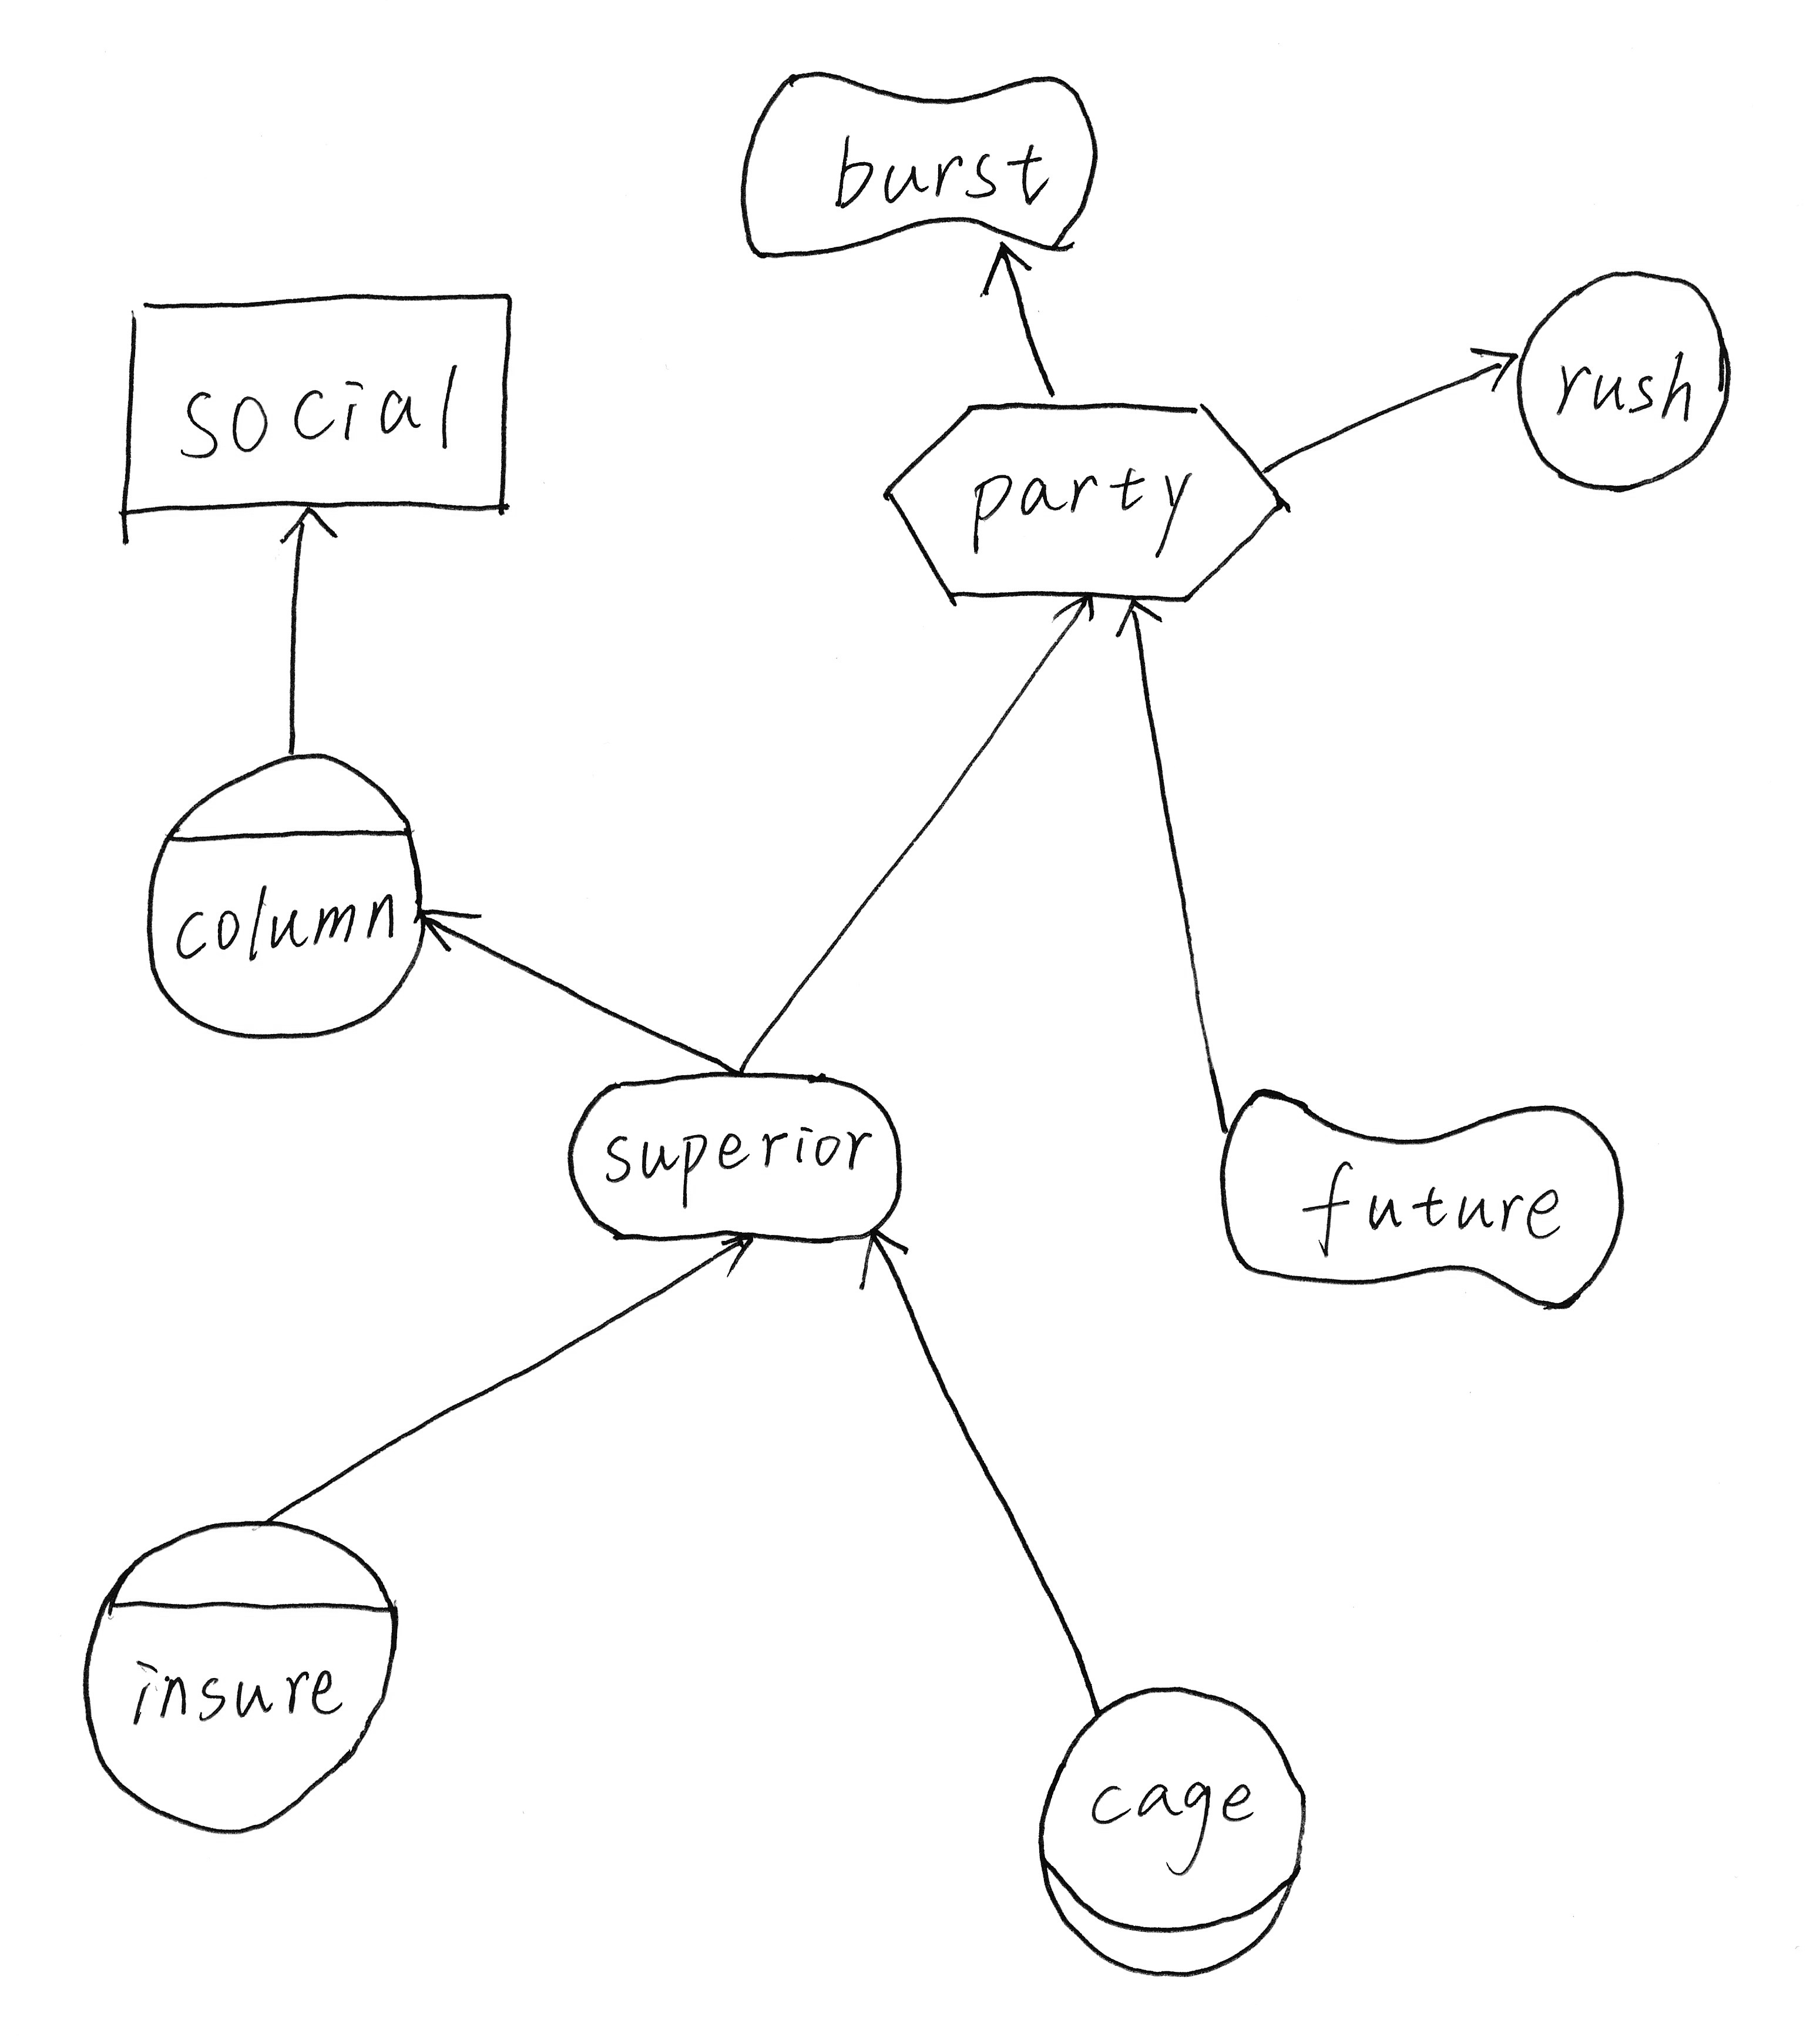actor: (1493, 253, 1760, 511)
agent: (54, 1497, 432, 1847), (126, 731, 443, 1058)
arrow: (841, 1204, 936, 1302), (404, 879, 488, 977), (258, 483, 355, 566), (1456, 318, 1525, 415), (968, 228, 1058, 302), (690, 1211, 778, 1283), (1098, 582, 1174, 662), (1038, 571, 1105, 636)
goal: (550, 1047, 929, 1276)
quality: (1195, 1061, 1655, 1327), (719, 51, 1121, 272)
resource: (86, 267, 548, 568)
role: (1014, 1657, 1335, 1994)
task: (861, 378, 1302, 629)
